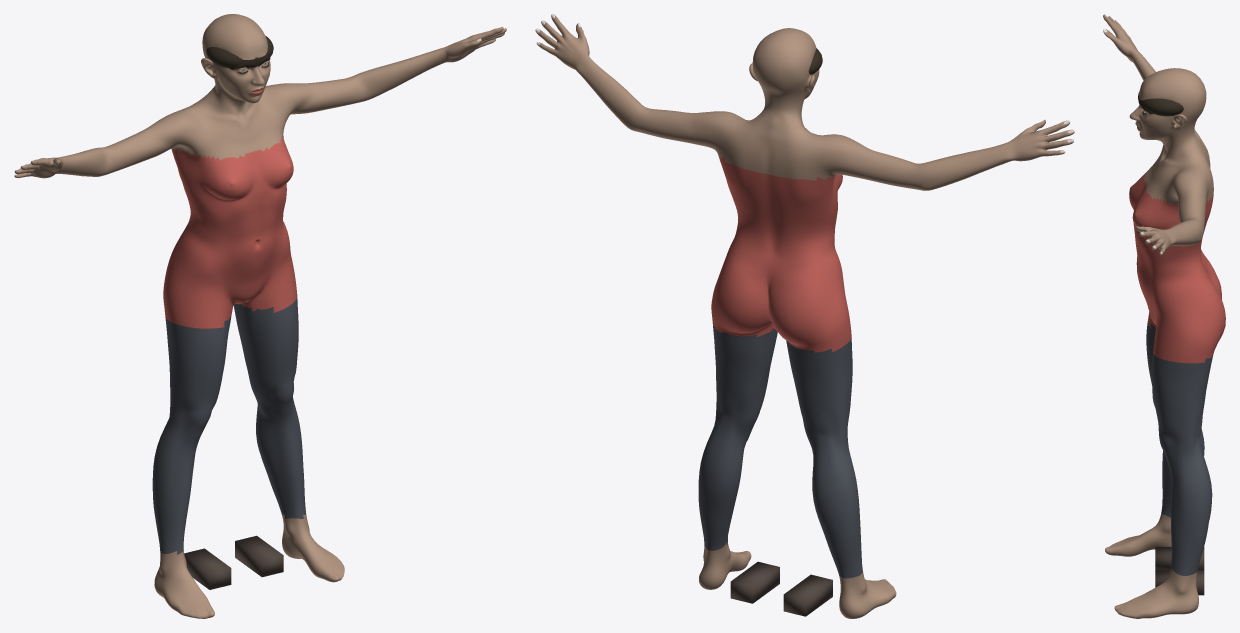
Rendered from hm_ped_dane_v13.glb.
3 renders of one model, left to right at view 1: azimuth 30°, elevation 25°; view 2: azimuth 150°, elevation 25°; view 3: azimuth 270°, elevation 25°, orthographic. The views are drawn at different scales.
Visible parts, largest first — view 1: hm_ped_dane; view 2: hm_ped_dane; view 3: hm_ped_dane.
Part boxes in pixels (x1=…): hm_ped_dane: x1=14, y1=14, x2=506, y2=618; hm_ped_dane: x1=535, y1=14, x2=1074, y2=618; hm_ped_dane: x1=1103, y1=14, x2=1225, y2=618.
Size of the model in its own units: 1.76 by 1.84 by 0.4008.
